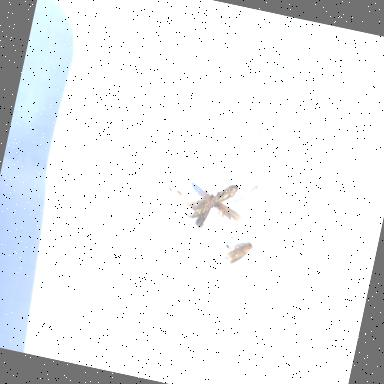pbw: (218, 233, 256, 270), (210, 200, 248, 235), (192, 188, 216, 240), (213, 180, 239, 207)
